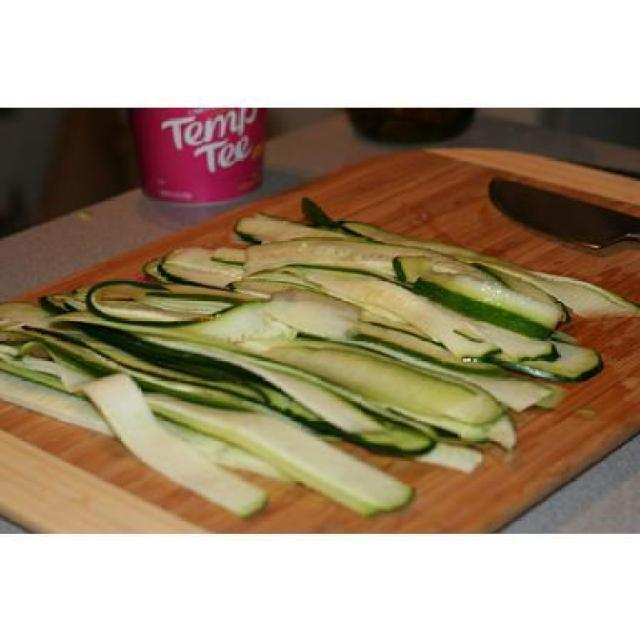Zucchini: (0, 264, 522, 514), (153, 233, 604, 379)
